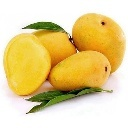mango: (70, 13, 126, 78), (3, 31, 51, 96), (49, 49, 112, 92)
